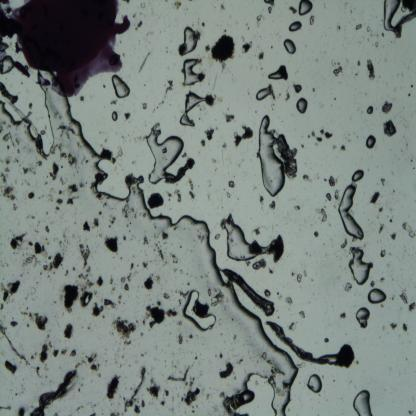Air bubble: (257, 114, 285, 198), (145, 128, 184, 186), (225, 212, 261, 260), (182, 289, 218, 332), (338, 182, 364, 240), (180, 90, 206, 128), (349, 245, 372, 286), (269, 385, 292, 416), (382, 0, 401, 33), (111, 73, 132, 101), (353, 389, 373, 416), (183, 25, 199, 56), (182, 58, 199, 86), (355, 307, 372, 329), (368, 288, 387, 305), (307, 374, 323, 394), (0, 54, 15, 75), (297, 0, 313, 16), (283, 38, 297, 54), (256, 87, 270, 102), (288, 20, 303, 33), (268, 68, 283, 81), (297, 97, 308, 114), (242, 390, 255, 404), (351, 169, 364, 182), (366, 135, 376, 149), (111, 110, 118, 122), (366, 105, 374, 115), (294, 84, 303, 92), (264, 0, 274, 6), (324, 338, 329, 342)
Background material: (6, 95, 38, 136), (276, 134, 300, 178), (261, 234, 285, 264), (211, 34, 235, 62), (39, 332, 60, 363), (110, 314, 136, 339), (60, 282, 80, 314), (225, 393, 250, 416), (332, 344, 355, 368), (144, 303, 165, 328), (232, 124, 254, 147), (150, 231, 165, 262), (107, 373, 122, 401), (78, 241, 92, 267), (53, 232, 70, 252), (47, 252, 64, 272), (9, 232, 27, 250), (100, 146, 117, 165), (77, 272, 94, 290), (90, 172, 105, 192), (269, 365, 283, 386), (184, 387, 199, 406), (0, 184, 17, 200), (33, 241, 48, 259), (8, 278, 21, 298), (219, 362, 233, 380), (195, 300, 209, 318), (34, 312, 47, 331), (105, 235, 118, 254), (58, 124, 74, 139), (383, 120, 397, 137), (80, 290, 93, 308), (314, 206, 327, 224), (48, 161, 59, 182), (0, 282, 11, 303), (21, 255, 37, 269), (35, 137, 45, 159), (365, 59, 375, 81), (139, 52, 149, 74), (91, 302, 104, 318), (402, 222, 415, 238), (211, 291, 224, 307), (145, 385, 161, 398), (121, 198, 131, 218), (63, 322, 73, 340), (5, 360, 17, 375), (163, 79, 173, 96), (252, 258, 266, 270), (20, 309, 34, 321), (381, 100, 393, 114), (2, 132, 14, 146), (205, 93, 217, 107), (120, 272, 133, 284), (143, 276, 154, 290), (224, 110, 235, 124), (399, 290, 409, 305), (67, 153, 77, 168), (205, 127, 215, 142), (86, 352, 99, 363), (256, 13, 265, 28), (269, 83, 276, 102), (66, 183, 78, 194), (274, 386, 286, 397), (242, 41, 253, 53), (126, 174, 136, 187), (58, 144, 67, 158), (104, 298, 116, 308), (370, 192, 380, 204), (74, 359, 86, 369), (114, 143, 122, 157), (108, 214, 116, 228), (176, 331, 184, 345), (166, 308, 177, 318), (66, 196, 79, 204), (50, 142, 58, 155), (332, 66, 342, 76), (90, 362, 100, 372), (260, 350, 270, 360), (344, 282, 353, 293), (92, 216, 100, 228), (35, 365, 42, 378), (172, 1, 182, 10), (213, 72, 218, 90), (253, 226, 262, 236), (170, 254, 180, 263), (196, 234, 205, 244), (22, 145, 32, 154), (288, 6, 298, 15), (283, 296, 293, 305), (0, 173, 8, 184), (96, 276, 104, 287), (258, 196, 264, 210), (328, 175, 335, 187), (176, 189, 182, 203), (83, 220, 90, 232), (370, 30, 380, 38), (124, 111, 132, 121), (268, 200, 276, 210), (408, 302, 416, 312), (289, 321, 297, 331), (188, 190, 196, 200), (378, 222, 384, 235), (29, 165, 36, 176), (133, 136, 144, 143), (220, 217, 226, 229), (342, 238, 348, 250), (389, 322, 397, 331), (303, 174, 312, 182), (198, 72, 206, 81), (334, 190, 340, 202), (134, 405, 142, 414), (18, 407, 26, 416), (0, 121, 6, 133), (258, 50, 265, 60), (61, 347, 68, 357), (188, 179, 194, 190), (143, 234, 149, 245), (296, 273, 302, 284), (355, 23, 363, 31), (10, 320, 18, 328), (24, 178, 32, 186), (162, 291, 170, 299), (236, 357, 244, 365), (325, 131, 333, 139), (110, 98, 118, 106), (216, 95, 224, 103), (298, 310, 306, 318), (149, 378, 157, 386), (264, 288, 271, 297), (282, 381, 291, 388), (30, 352, 37, 361), (297, 361, 306, 368), (123, 339, 132, 346), (5, 156, 12, 165), (20, 384, 26, 394), (309, 16, 315, 26), (133, 208, 139, 218), (389, 213, 395, 223), (204, 43, 210, 53), (59, 175, 65, 185), (402, 322, 408, 332), (326, 192, 332, 202), (56, 197, 63, 205), (78, 181, 86, 188), (161, 232, 168, 240), (340, 144, 347, 152), (187, 332, 194, 340), (160, 147, 168, 154), (220, 142, 228, 149), (109, 411, 120, 416), (221, 62, 226, 73), (189, 376, 194, 387), (0, 405, 11, 410), (76, 140, 82, 149), (380, 249, 386, 258), (27, 100, 33, 109), (117, 295, 122, 305), (70, 349, 77, 356), (96, 192, 103, 199), (36, 160, 43, 167), (275, 292, 282, 299), (181, 151, 188, 158), (171, 360, 177, 368), (140, 1, 146, 9), (43, 264, 49, 272), (267, 6, 273, 14), (390, 232, 396, 240), (44, 364, 50, 372), (379, 276, 385, 284), (220, 3, 226, 11), (208, 180, 214, 188), (228, 180, 234, 188), (212, 404, 218, 412), (78, 94, 84, 102), (330, 58, 336, 66), (22, 166, 28, 174), (30, 286, 36, 294), (254, 377, 259, 386), (103, 358, 108, 367), (12, 202, 17, 211), (74, 369, 79, 378), (48, 193, 53, 202), (370, 281, 376, 288), (28, 192, 34, 199), (268, 267, 274, 274), (408, 408, 414, 415), (160, 400, 166, 407), (142, 102, 148, 109), (231, 76, 237, 83), (53, 111, 59, 118), (313, 231, 319, 238), (146, 31, 154, 36), (226, 190, 231, 198), (45, 225, 50, 233), (88, 411, 96, 416), (381, 178, 386, 186), (143, 260, 148, 268), (124, 284, 129, 292), (142, 211, 147, 219), (78, 382, 84, 388), (4, 166, 10, 172), (340, 312, 346, 318), (58, 189, 64, 195), (178, 268, 184, 274), (266, 360, 272, 366), (211, 157, 217, 163), (219, 392, 225, 398), (202, 138, 206, 147), (198, 103, 202, 112), (176, 320, 182, 326), (164, 388, 168, 397), (38, 194, 45, 199), (93, 288, 98, 295), (316, 137, 323, 142), (64, 269, 69, 276), (129, 207, 134, 214), (246, 260, 251, 267), (207, 289, 212, 296), (76, 406, 83, 411), (141, 400, 145, 408), (130, 262, 134, 270), (0, 302, 4, 310), (357, 59, 361, 67), (15, 137, 19, 145), (142, 318, 146, 326), (168, 192, 172, 200), (140, 353, 146, 358), (154, 276, 160, 281), (40, 130, 46, 135), (294, 206, 300, 211), (13, 158, 19, 163), (387, 252, 393, 257), (84, 159, 89, 165), (179, 290, 184, 296), (215, 235, 221, 240), (28, 241, 33, 247), (114, 358, 118, 365), (25, 294, 29, 301), (122, 234, 126, 241), (303, 270, 307, 277), (86, 266, 90, 273), (89, 401, 93, 408), (171, 404, 174, 413), (125, 0, 130, 5), (332, 145, 337, 150), (213, 287, 218, 292), (173, 225, 178, 230), (110, 332, 115, 337), (393, 87, 398, 92), (77, 388, 82, 393), (172, 268, 178, 272), (405, 142, 408, 150), (52, 300, 58, 304), (30, 215, 36, 219), (199, 59, 203, 65), (300, 143, 304, 149), (178, 298, 181, 306), (356, 40, 362, 44), (110, 276, 113, 284), (374, 41, 378, 47), (138, 22, 142, 28), (220, 353, 224, 359), (346, 57, 350, 63), (6, 124, 12, 128), (56, 205, 60, 211), (219, 318, 222, 325), (410, 83, 414, 88), (381, 32, 385, 37), (206, 394, 210, 399), (157, 301, 161, 306), (122, 396, 126, 401), (37, 260, 41, 265), (323, 177, 327, 182), (202, 22, 206, 27), (140, 332, 144, 337), (391, 295, 395, 300), (194, 355, 198, 360), (379, 207, 383, 212), (384, 57, 388, 62), (102, 83, 106, 88), (132, 13, 136, 18), (164, 260, 168, 265), (174, 289, 178, 294), (337, 25, 341, 30), (320, 129, 324, 134), (97, 233, 102, 237), (180, 397, 184, 402), (152, 248, 156, 253), (202, 386, 205, 392), (177, 392, 180, 398), (383, 325, 386, 331), (233, 334, 236, 340), (112, 286, 115, 292), (197, 20, 200, 26), (389, 208, 392, 214), (73, 265, 76, 271), (260, 65, 263, 71), (99, 210, 102, 216), (242, 36, 245, 42), (367, 26, 370, 32), (54, 412, 58, 416), (103, 202, 107, 206), (132, 160, 136, 164), (14, 392, 18, 396), (199, 372, 203, 376), (325, 398, 329, 402), (26, 323, 30, 327), (348, 380, 352, 384), (130, 237, 134, 241), (314, 142, 318, 146), (187, 282, 191, 286), (312, 88, 316, 92), (316, 59, 320, 63), (380, 304, 384, 308), (135, 320, 139, 324), (364, 92, 368, 96), (87, 326, 91, 330), (92, 402, 96, 406), (121, 355, 125, 359), (48, 255, 51, 260), (119, 394, 122, 399), (356, 360, 359, 365), (337, 61, 340, 66), (312, 132, 315, 137), (45, 374, 48, 379), (321, 374, 324, 379), (7, 145, 10, 150), (408, 92, 411, 97), (196, 334, 199, 339), (323, 4, 326, 9), (255, 65, 258, 70), (336, 177, 338, 184), (172, 395, 174, 402), (412, 167, 416, 170), (392, 189, 395, 193), (119, 364, 122, 368), (35, 230, 38, 234), (17, 149, 20, 153), (387, 264, 390, 268), (101, 412, 104, 416), (44, 181, 47, 185), (120, 256, 122, 262), (310, 278, 314, 281), (58, 116, 62, 119), (231, 317, 234, 321), (179, 245, 182, 249), (382, 45, 385, 49), (6, 262, 9, 266), (74, 220, 76, 226), (291, 273, 295, 276), (185, 382, 188, 386), (405, 357, 408, 361), (324, 390, 326, 396), (118, 347, 120, 353), (191, 410, 195, 413), (214, 354, 218, 357), (150, 273, 154, 276), (247, 27, 250, 31), (408, 64, 410, 70), (233, 376, 236, 380), (164, 364, 167, 368), (30, 404, 33, 408), (356, 108, 359, 112), (366, 38, 369, 42), (127, 364, 131, 367), (164, 241, 167, 245), (318, 393, 321, 397), (20, 274, 23, 278), (26, 306, 29, 310), (377, 240, 379, 245), (99, 373, 101, 378), (61, 164, 63, 169), (188, 0, 193, 2), (412, 396, 414, 401), (192, 23, 194, 28), (228, 356, 230, 361), (213, 6, 216, 9), (220, 333, 223, 336), (236, 197, 239, 200), (355, 73, 358, 76), (353, 18, 356, 21), (354, 386, 357, 389), (122, 347, 125, 350), (156, 106, 159, 109), (247, 351, 250, 354), (130, 387, 133, 390), (350, 10, 353, 13), (200, 275, 203, 278), (104, 139, 107, 142), (135, 27, 138, 30), (348, 139, 351, 142), (11, 317, 14, 320), (391, 278, 394, 281), (47, 275, 50, 278), (324, 51, 327, 54), (348, 20, 351, 23), (121, 412, 124, 415), (381, 19, 384, 22), (387, 214, 389, 218), (126, 224, 128, 228), (40, 271, 42, 275), (366, 52, 370, 54), (19, 163, 21, 167), (103, 314, 105, 318), (13, 251, 15, 255), (308, 134, 310, 138), (334, 96, 336, 100), (46, 174, 48, 178), (224, 306, 226, 310), (331, 103, 333, 107), (46, 211, 48, 215), (91, 379, 93, 383), (196, 404, 198, 408), (256, 359, 258, 363), (402, 135, 404, 139), (169, 331, 171, 335), (272, 107, 274, 111), (271, 45, 273, 49), (411, 159, 413, 163), (401, 73, 403, 77), (154, 225, 156, 229), (129, 222, 132, 224), (348, 133, 350, 136), (166, 50, 168, 53), (3, 315, 5, 318), (36, 281, 38, 284), (260, 35, 262, 38), (312, 293, 314, 296), (165, 0, 168, 2), (162, 393, 164, 396), (413, 286, 416, 288), (186, 272, 188, 275), (379, 59, 381, 62), (162, 100, 164, 103), (255, 110, 258, 112), (198, 117, 200, 120), (361, 35, 363, 38), (400, 268, 402, 271), (243, 343, 245, 346), (164, 360, 167, 362), (234, 354, 236, 357), (192, 405, 194, 408), (246, 23, 248, 26), (356, 135, 358, 138), (158, 103, 161, 105), (401, 149, 403, 152), (377, 216, 379, 219), (379, 336, 381, 339), (118, 402, 120, 405), (230, 349, 232, 351), (117, 356, 119, 358), (49, 380, 51, 382), (245, 340, 247, 342), (193, 362, 195, 364), (150, 260, 152, 262), (386, 332, 388, 334), (72, 235, 74, 237), (128, 230, 130, 232), (408, 216, 410, 218), (138, 264, 140, 266), (401, 274, 403, 276), (224, 341, 226, 343), (92, 410, 94, 412), (202, 358, 204, 360), (391, 41, 393, 43), (210, 387, 212, 389), (224, 30, 226, 32), (257, 46, 259, 48), (234, 342, 236, 344), (28, 363, 30, 365), (115, 353, 117, 355), (53, 272, 55, 274), (105, 348, 107, 350), (378, 62, 380, 64), (378, 76, 380, 78), (333, 380, 335, 382), (22, 182, 23, 185), (263, 370, 264, 373), (398, 157, 399, 160), (187, 8, 188, 11), (250, 335, 251, 338), (250, 356, 251, 359), (273, 103, 274, 106), (217, 0, 218, 2), (254, 333, 256, 334), (125, 376, 126, 378), (16, 253, 18, 254), (403, 107, 404, 109), (405, 289, 406, 291), (286, 2, 287, 4), (236, 355, 238, 356), (110, 404, 112, 405), (255, 55, 256, 57), (404, 246, 405, 248), (354, 7, 355, 9), (125, 388, 127, 389), (245, 329, 246, 330)
Cellulose filter fibre: (264, 320, 332, 365), (221, 267, 275, 316), (30, 370, 74, 416), (0, 324, 28, 365), (124, 367, 146, 413), (165, 159, 195, 186), (393, 10, 416, 38), (168, 365, 191, 381)
Fragment: (146, 191, 165, 210)
Pen: (0, 0, 136, 97)
